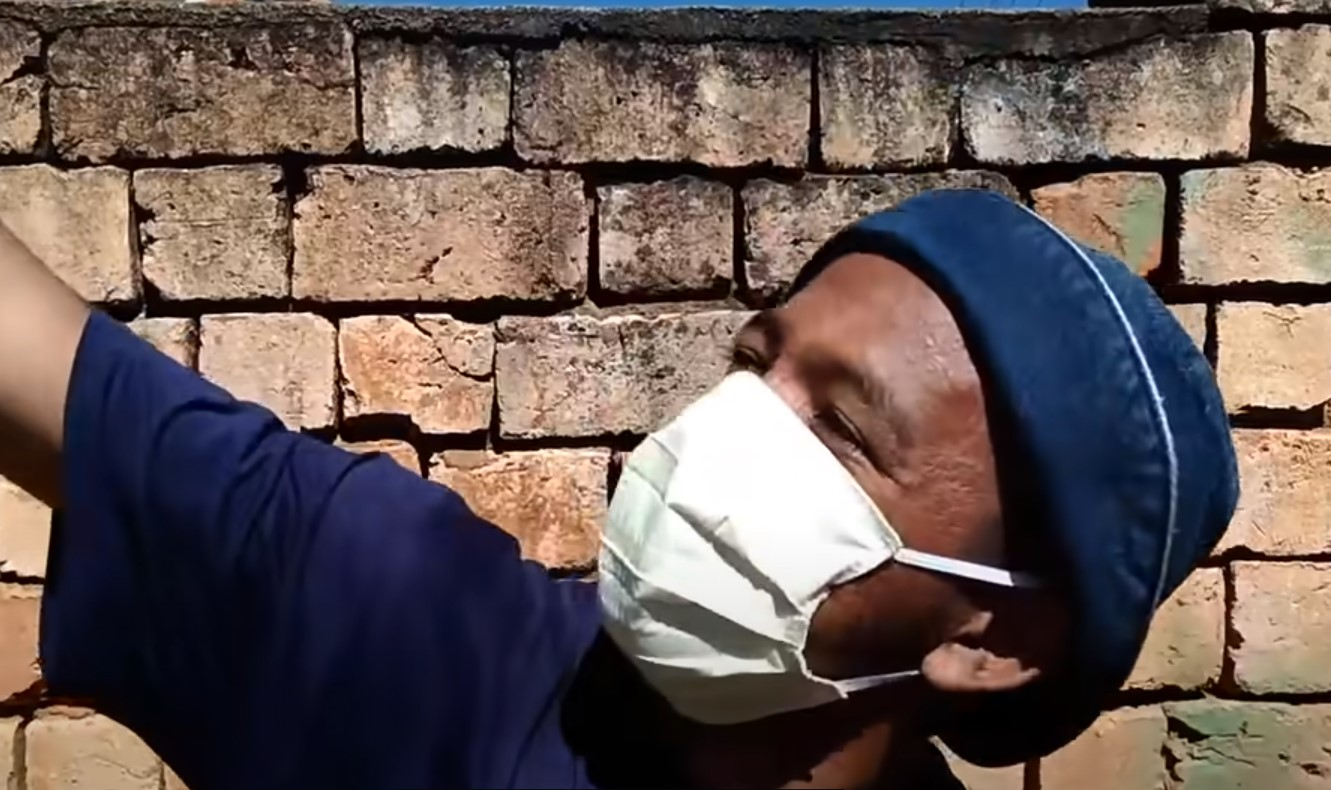face_with_mask: (593, 191, 1240, 765)
